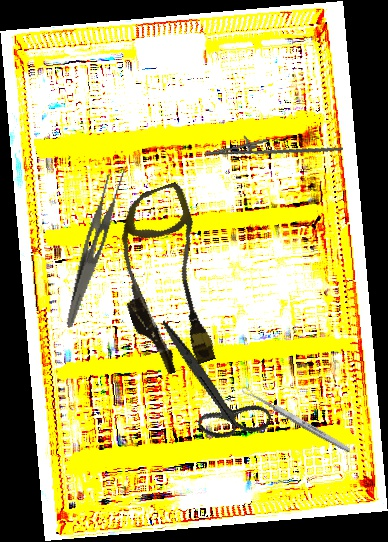Cannula: (93, 180, 239, 381)
Dressing Forceps: (64, 162, 129, 333)
Iris Scissors: (131, 318, 291, 455)
Needle Holder: (202, 120, 344, 173)
Surgical Spoon: (239, 384, 353, 455)
